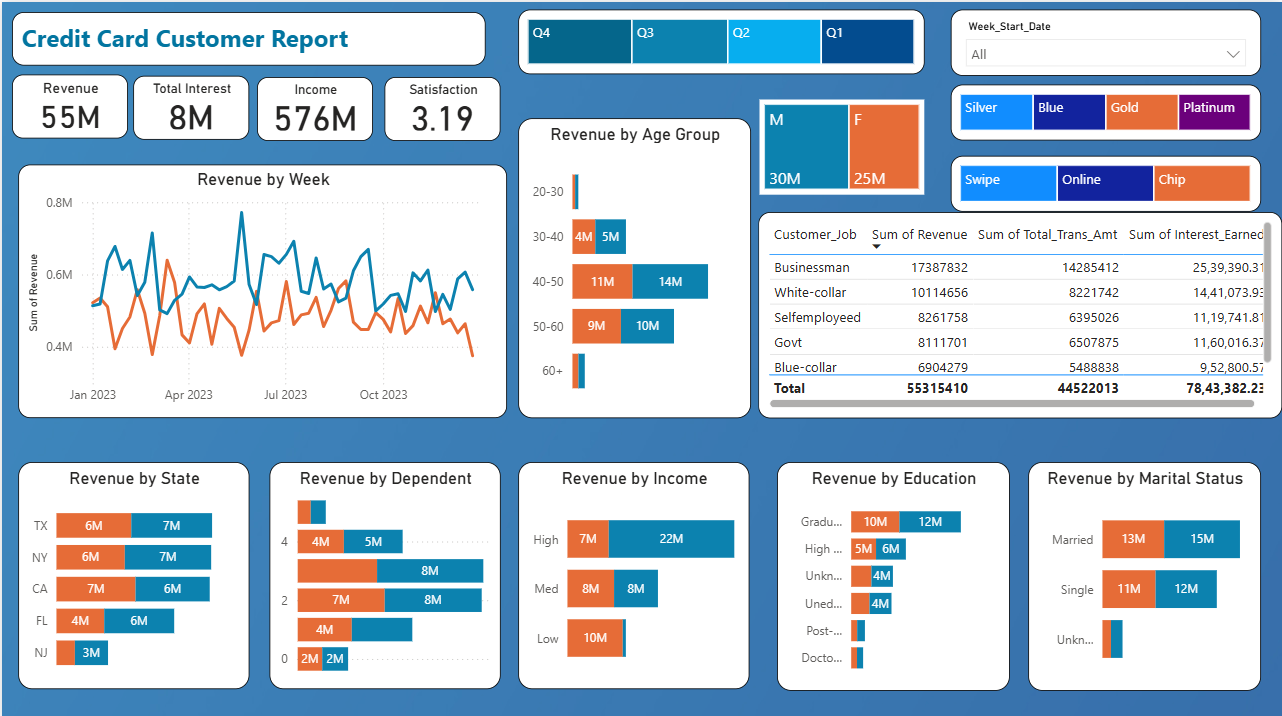

What the dashboard file says about the page in this screenshot:
{"tool":"powerbi","page":{"name":"CC Customer","canvas":[1280,720],"ordinal":2},"visuals":[{"type":"textbox","box":[10,10,473.8,53.8],"z":0},{"type":"tableEx","fields":{"Values":["customer (1).Customer_Job","Sum(credit_card.Revenue)","Sum(credit_card.Total_Trans_Amt)","Sum(credit_card.Interest_Earned)"]},"box":[756.2,210,523.8,206.2],"z":1000},{"type":"slicer","fields":{"Values":["credit_card.Week_Start_Date"]},"box":[948.8,7.5,310,66.2],"z":2000},{"type":"treemap","fields":{"Group":["credit_card.Qtr"],"Values":["Avg(customer (1).Client_Num)"]},"box":[516.2,7.5,406.2,65],"z":3000},{"type":"treemap","fields":{"Group":["credit_card.Card_Category"],"Values":["Avg(customer (1).Client_Num)"]},"box":[948.8,82.5,310,56.2],"z":4000},{"type":"card","title":"Revenue","fields":{"Values":["Sum(credit_card.Revenue)"]},"box":[10,72.5,116.2,63.8],"z":5000},{"type":"card","title":"Total Interest","fields":{"Values":["Sum(credit_card.Interest_Earned)"]},"box":[131.2,73.8,116.2,63.8],"z":6000},{"type":"card","title":"Income","fields":{"Values":["Sum(customer (1).Income)"]},"box":[255,75,116,63.8],"z":7000},{"type":"card","title":"Satisfaction","fields":{"Values":["Avg(customer (1).Cust_Satisfaction_Score)"]},"box":[382.5,75,116.2,63.8],"z":8000},{"type":"lineChart","title":"Revenue by Week","fields":{"Category":["credit_card.Week_Start_Date.Variation.Date Hierarchy.Year","credit_card.Week_Start_Date.Variation.Date Hierarchy.Month","credit_card.Week_Start_Date.Variation.Date Hierarchy.Day"],"Series":["customer (1).Gender"],"Y":["Sum(credit_card.Revenue)"]},"box":[16.2,162.5,488.8,253.8],"z":9000},{"type":"treemap","fields":{"Group":["customer (1).Gender"],"Values":["Sum(credit_card.Revenue)"]},"box":[757.5,97.5,165,95],"z":10000},{"type":"barChart","title":"Revenue by Income","fields":{"Category":["customer (1).IncomeGroup"],"Series":["customer (1).Gender"],"Y":["Sum(credit_card.Revenue)"]},"box":[516.2,460,231.2,227.5],"z":11000},{"type":"barChart","title":"Revenue by Age Group","fields":{"Category":["customer (1).AgeGroup"],"Series":["customer (1).Gender"],"Y":["Sum(credit_card.Revenue)"]},"box":[516.2,116.2,232.5,300],"z":12000},{"type":"barChart","title":"Revenue by Education","fields":{"Category":["customer (1).Education_Level"],"Series":["customer (1).Gender"],"Y":["Sum(credit_card.Revenue)"]},"box":[775,460,232.5,228.8],"z":13000},{"type":"barChart","title":"Revenue by State","fields":{"Category":["customer (1).state_cd"],"Series":["customer (1).Gender"],"Y":["Sum(credit_card.Revenue)"]},"box":[16.2,460,231.2,227.5],"z":14000},{"type":"treemap","fields":{"Group":["credit_card.Use Chip"],"Values":["Avg(customer (1).Client_Num)"]},"box":[948.8,153.8,310,56.2],"z":15000},{"type":"barChart","title":"Revenue by Dependent","fields":{"Category":["customer (1).Dependent_Count"],"Series":["customer (1).Gender"],"Y":["Sum(credit_card.Revenue)"]},"box":[267.5,460,231.2,227.5],"z":16000},{"type":"barChart","title":"Revenue by Marital Status","fields":{"Category":["customer (1).Marital_Status"],"Series":["customer (1).Gender"],"Y":["Sum(credit_card.Revenue)"]},"box":[1026.2,460,232.5,228.8],"z":17000}]}

Visuals, with their boxes in screenshot pixels (x1, y1, x2, y2), scaled from the page's 1280x720 canvas onto the 1282x716 screenshot:
textbox: BBox(10, 10, 485, 63)
tableEx - customer (1).Customer_Job x Sum(credit_card.Revenue): BBox(757, 209, 1281, 414)
slicer - credit_card.Week_Start_Date: BBox(950, 7, 1261, 73)
treemap - credit_card.Qtr x Avg(customer (1).Client_Num): BBox(517, 7, 924, 72)
treemap - credit_card.Card_Category x Avg(customer (1).Client_Num): BBox(950, 82, 1261, 138)
"Revenue" card: BBox(10, 72, 126, 136)
"Total Interest" card: BBox(131, 73, 248, 137)
"Income" card: BBox(255, 75, 372, 138)
"Satisfaction" card: BBox(383, 75, 499, 138)
"Revenue by Week" lineChart: BBox(16, 162, 506, 414)
treemap - customer (1).Gender x Sum(credit_card.Revenue): BBox(759, 97, 924, 191)
"Revenue by Income" barChart: BBox(517, 457, 749, 684)
"Revenue by Age Group" barChart: BBox(517, 116, 750, 414)
"Revenue by Education" barChart: BBox(776, 457, 1009, 685)
"Revenue by State" barChart: BBox(16, 457, 248, 684)
treemap - credit_card.Use Chip x Avg(customer (1).Client_Num): BBox(950, 153, 1261, 209)
"Revenue by Dependent" barChart: BBox(268, 457, 499, 684)
"Revenue by Marital Status" barChart: BBox(1028, 457, 1261, 685)
